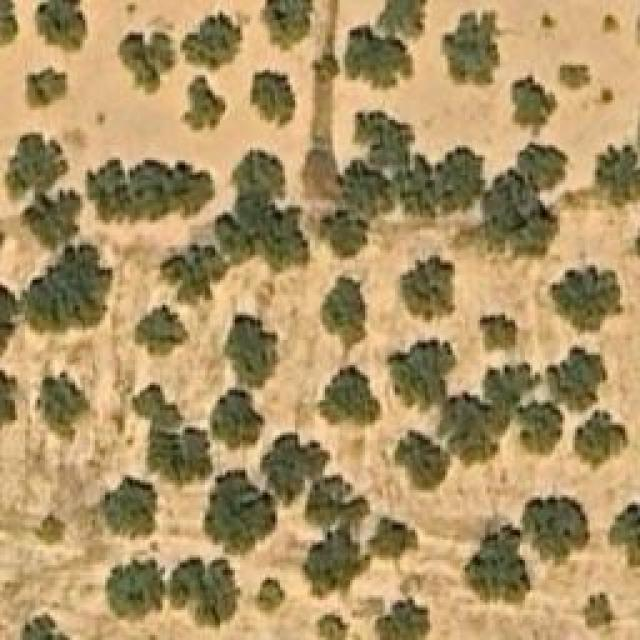Tree: (80, 153, 214, 219), (130, 383, 213, 488), (220, 195, 314, 279), (22, 245, 110, 325), (205, 470, 275, 555), (485, 172, 554, 255), (465, 523, 535, 604), (173, 553, 242, 626), (305, 532, 372, 604), (525, 490, 590, 562), (550, 268, 623, 331), (265, 432, 331, 499), (442, 13, 500, 86), (105, 558, 169, 623), (443, 394, 502, 462), (345, 33, 415, 89), (225, 315, 278, 388), (118, 33, 178, 96), (180, 10, 240, 73), (8, 133, 68, 196), (397, 340, 454, 406), (35, 372, 90, 440), (403, 255, 456, 325), (308, 475, 370, 533), (103, 475, 158, 538), (318, 368, 381, 423), (168, 242, 227, 300), (435, 143, 482, 215), (25, 190, 81, 249), (575, 412, 628, 470), (393, 433, 447, 488), (550, 347, 601, 405), (213, 390, 263, 448), (32, 0, 87, 52), (250, 68, 295, 131), (323, 278, 366, 343), (510, 72, 558, 130), (259, 0, 312, 52), (135, 305, 188, 355), (338, 163, 391, 213), (180, 75, 225, 133), (610, 488, 640, 571), (597, 145, 640, 200), (375, 597, 430, 640), (232, 152, 280, 200), (520, 403, 565, 454), (483, 363, 535, 405), (370, 518, 418, 561), (572, 593, 620, 636), (0, 277, 25, 355), (25, 65, 68, 110), (328, 208, 368, 253), (520, 145, 563, 185), (33, 515, 73, 552), (252, 578, 286, 621), (480, 313, 518, 348), (20, 615, 73, 640), (310, 607, 347, 640), (0, 0, 18, 55), (0, 370, 15, 433), (558, 65, 593, 90), (315, 55, 338, 83), (602, 13, 620, 33), (600, 87, 615, 105)
